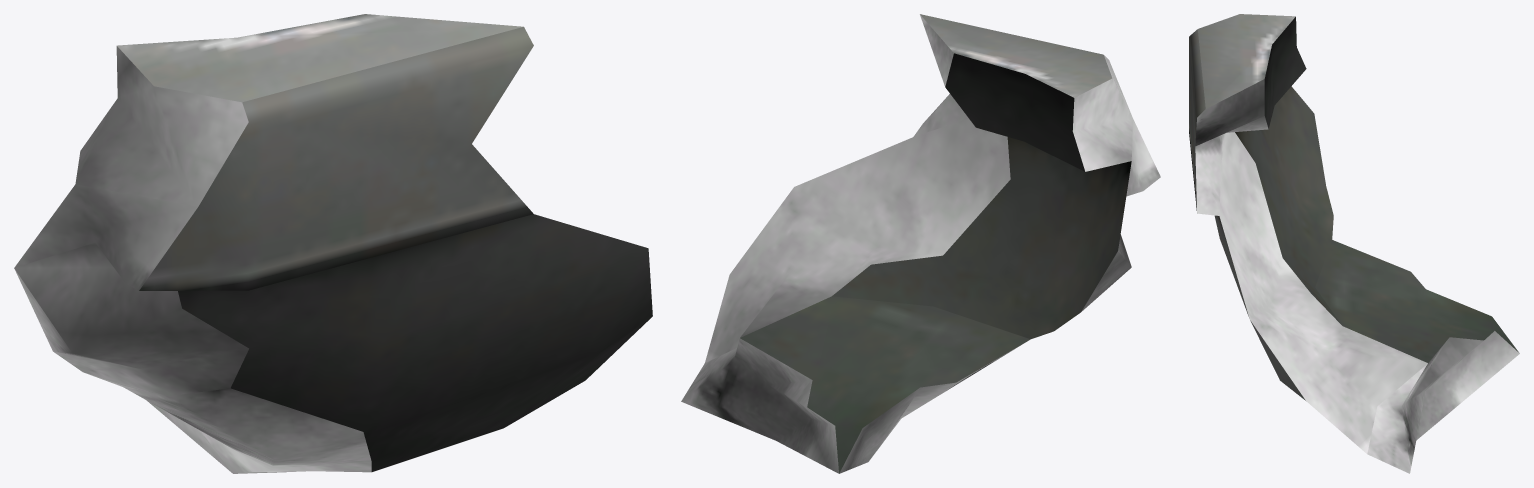
Rendered from toilet_b_breakable01_part01.glb.
3 renders of one model, left to right at view 1: azimuth 30°, elevation 25°; view 2: azimuth 150°, elevation 25°; view 3: azimuth 270°, elevation 25°, orthographic. The views are drawn at different scales.
Visible parts, largest first — view 1: toilet_b_breakable01_part01; view 2: toilet_b_breakable01_part01; view 3: toilet_b_breakable01_part01.
Boxes of the visible parts, bbox=[...] form: toilet_b_breakable01_part01: bbox=[14, 14, 652, 473]; toilet_b_breakable01_part01: bbox=[681, 14, 1160, 473]; toilet_b_breakable01_part01: bbox=[1189, 14, 1519, 473].
Size of the model in its own units: 0.2157 by 0.187 by 0.1721.
1 material, 1 textured.
